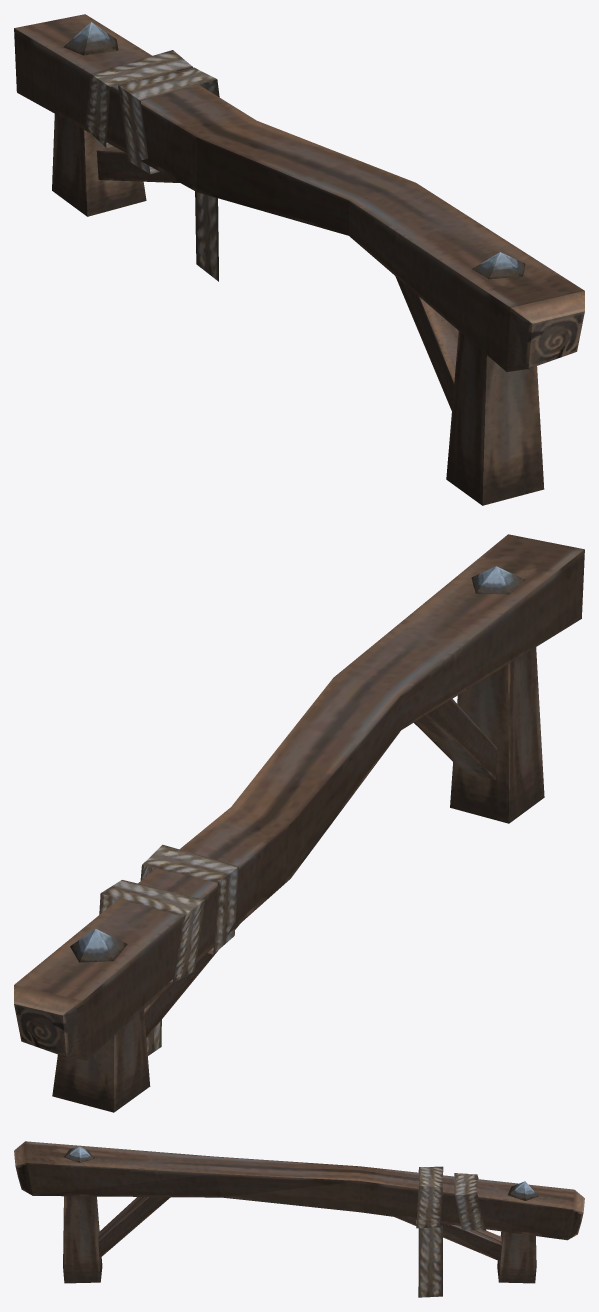
The model's file is mine_railing_large03.fbx.
3 renders of one model, top to bottom at view 1: azimuth 30°, elevation 25°; view 2: azimuth 150°, elevation 25°; view 3: azimuth 270°, elevation 25°, orthographic. The views are drawn at different scales.
Parts seen in each view (by area): view 1: obj1.013; view 2: obj1.013; view 3: obj1.013.
Boxes of the visible parts, x1=… form: obj1.013: x1=14, y1=14, x2=584, y2=505; obj1.013: x1=14, y1=534, x2=584, y2=1112; obj1.013: x1=14, y1=1141, x2=584, y2=1297.
Size of the model in its own units: 0.6293 by 1.73 by 6.21.
